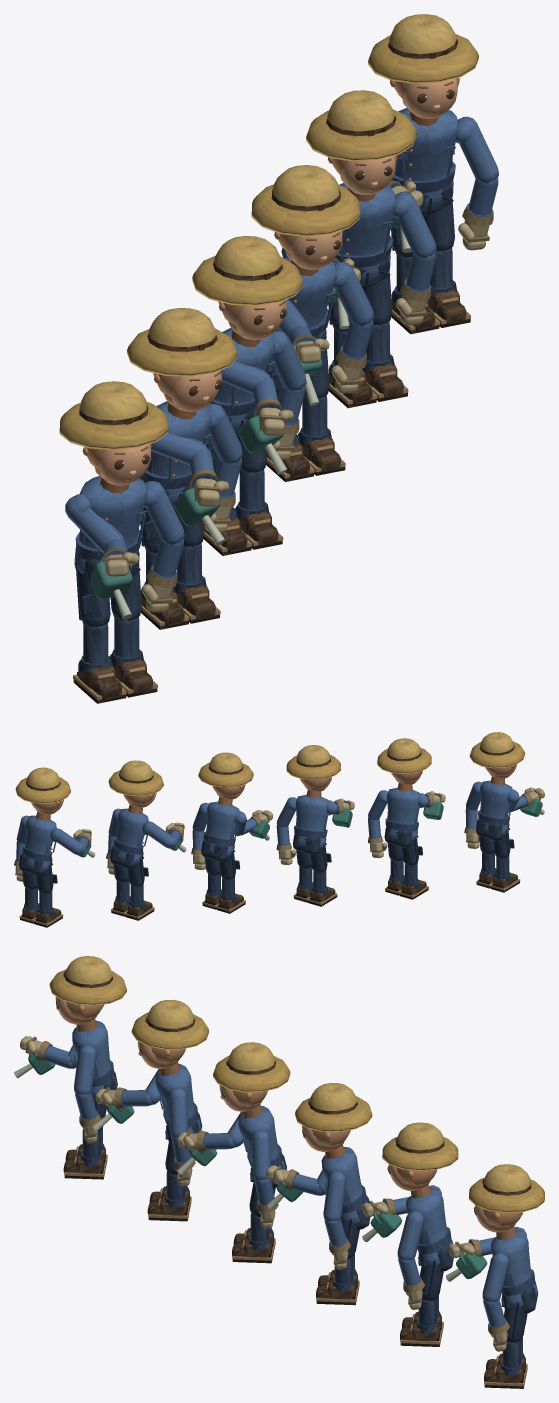
File: ba-water-tq-before.glb
3 renders of one model, top to bottom at view 1: azimuth 30°, elevation 25°; view 2: azimuth 150°, elevation 25°; view 3: azimuth 270°, elevation 25°, orthographic. The views are drawn at different scales.
Visible parts, largest first — view 1: strawHat (×6), denimJacketTorso (×6), leftShin (×6), head (×6), leftUpperArm (×6), rightShin (×6), leftHandMesh (×4), rightUpperArm (×3), leftLowerArm (×4), wateringCanBody (×3), rightHandMesh (×2), leftThigh (×2) (+1 smaller); view 2: strawHat (×6), denimJacketTorso (×6), rightShin (×6), leftShin (×6), trouserHips (×6), rightThigh (×6), head (×6), leftUpperArm (×4), rightUpperArm (×3), leftHandMesh (×3), wateringCanBody (×3), rightHandMesh; view 3: strawHat (×6), denimJacketTorso (×6), leftShin (×6), leftUpperArm (×6), head (×6), leftThigh (×2), wateringCanBody (×2).
Boxes of the visible parts, left/top/right/bottom form: strawHat (×6): left=59, top=14, right=478, bottom=450; denimJacketTorso (×6): left=74, top=108, right=458, bottom=574; leftShin (×6): left=110, top=248, right=470, bottom=697; head (×6): left=82, top=77, right=459, bottom=485; leftUpperArm (×6): left=144, top=116, right=498, bottom=545; rightShin (×6): left=73, top=255, right=439, bottom=703; leftHandMesh (×4): left=142, top=204, right=493, bottom=612; rightUpperArm (×3): left=65, top=361, right=269, bottom=553; leftLowerArm (×4): left=151, top=177, right=498, bottom=578; wateringCanBody (×3): left=90, top=415, right=284, bottom=599; rightHandMesh (×2): left=189, top=398, right=293, bottom=507; leftThigh (×2): left=366, top=197, right=454, bottom=324; strawHat (×6): left=15, top=732, right=525, bottom=803; denimJacketTorso (×6): left=22, top=776, right=512, bottom=870; rightShin (×6): left=33, top=856, right=520, bottom=927; leftShin (×6): left=19, top=852, right=496, bottom=923; trouserHips (×6): left=19, top=818, right=509, bottom=875; rightThigh (×6): left=36, top=830, right=514, bottom=893; head (×6): left=31, top=764, right=516, bottom=814; leftUpperArm (×4): left=192, top=781, right=481, bottom=831; rightUpperArm (×3): left=50, top=811, right=246, bottom=854; leftHandMesh (×3): left=276, top=827, right=479, bottom=865; wateringCanBody (×3): left=332, top=799, right=542, bottom=826; rightHandMesh: left=522, top=787, right=544, bottom=805; strawHat (×6): left=49, top=956, right=544, bottom=1213; denimJacketTorso (×6): left=72, top=1018, right=537, bottom=1307; leftShin (×6): left=63, top=1129, right=525, bottom=1388; leftUpperArm (×6): left=74, top=1044, right=508, bottom=1301; head (×6): left=55, top=996, right=522, bottom=1232; leftThigh (×2): left=420, top=1260, right=526, bottom=1342; wateringCanBody (×2): left=370, top=1212, right=487, bottom=1279.
Size of what is drawn, in the model's own units: 6.07 by 2.4 by 5.52.
